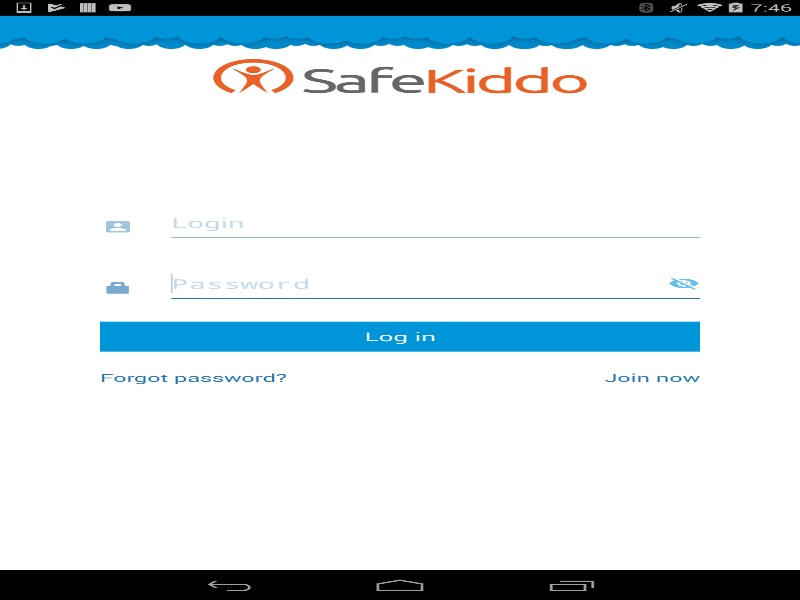Button: (100, 321, 700, 351)
Input: (86, 199, 700, 241), (86, 260, 700, 302)
